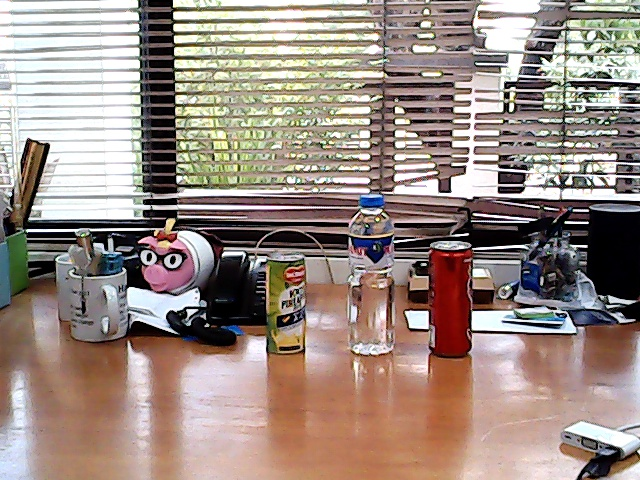Cola: (422, 229, 483, 363)
Pine Juice: (259, 245, 318, 364)
Summit Water: (343, 187, 408, 362)
